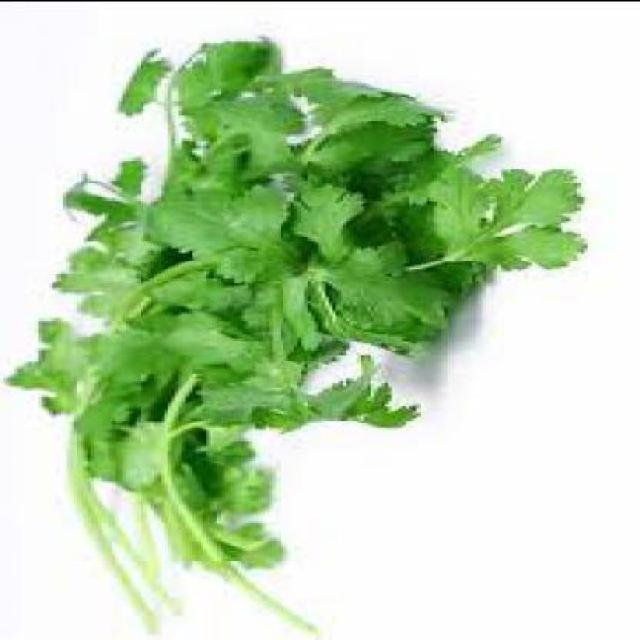BIODEGRADABLE: (0, 37, 582, 638), (388, 161, 584, 265), (143, 181, 294, 274), (300, 237, 452, 326)
